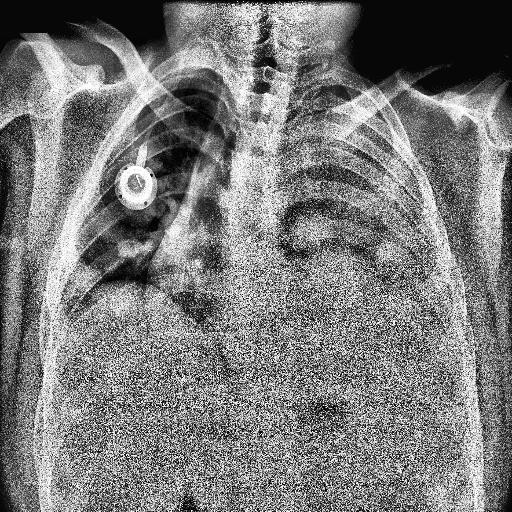10- Pleural effusion: (282, 66, 460, 334), (287, 77, 459, 349), (268, 105, 436, 359)
6- Infiltration: (122, 201, 200, 262)
7- Lung Opacity: (278, 98, 412, 278), (286, 116, 387, 254), (122, 201, 200, 262)
